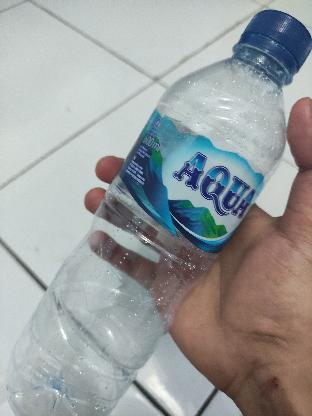Plastic Bottle: (8, 7, 310, 412)
